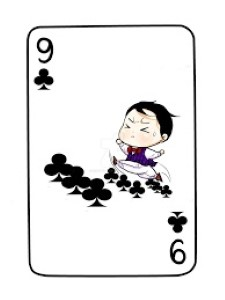NineOfClubs: (24, 23, 201, 279)
